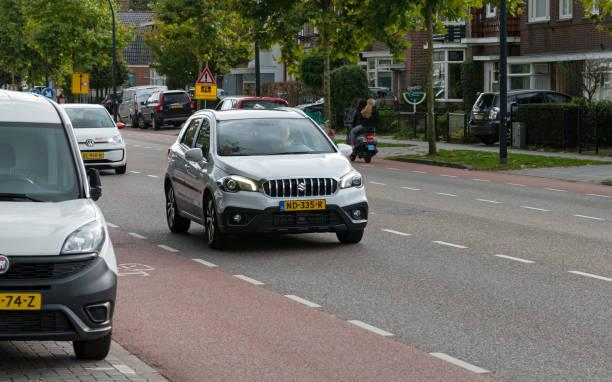Volkswagen: (85, 135, 98, 147)
suzuki: (294, 179, 312, 195)
